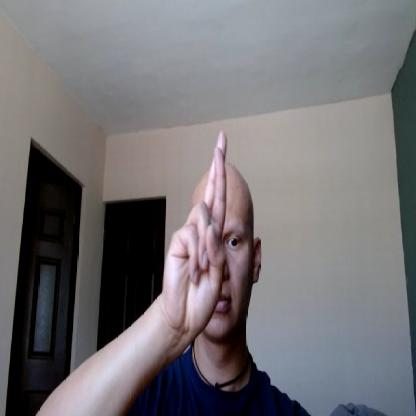R: (165, 129, 230, 336)
